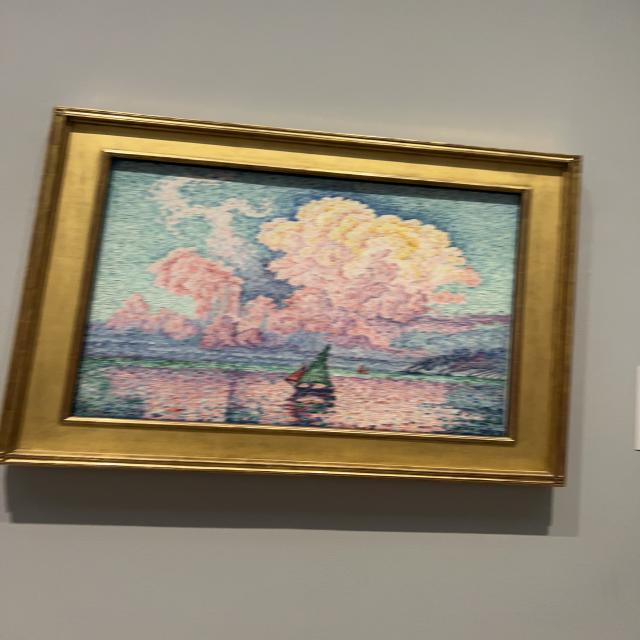sunrise: (77, 173, 515, 432)
